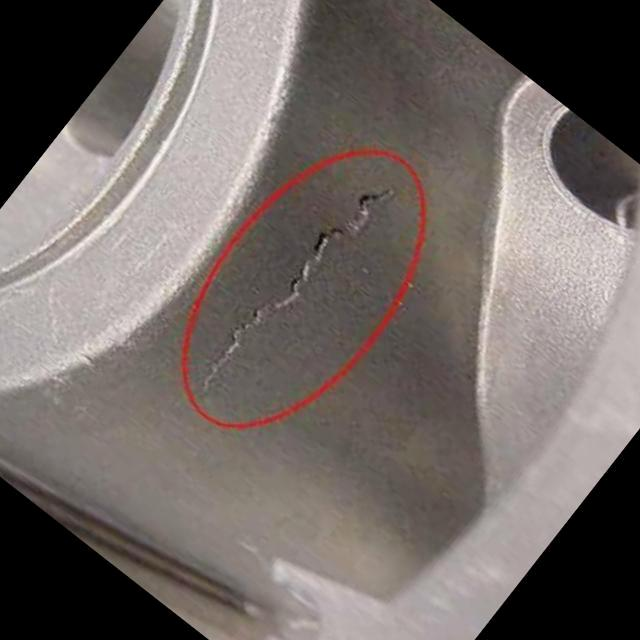defect: (197, 183, 404, 402)
